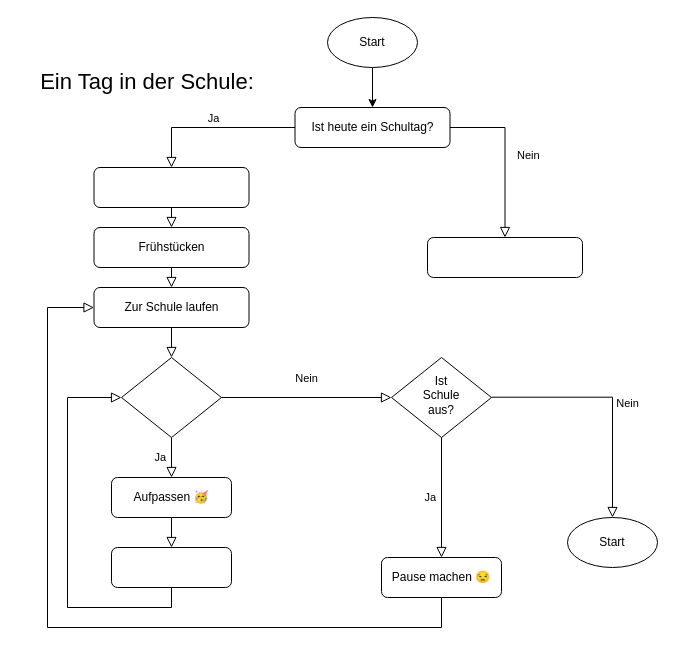
Some shapes in this 675 by 655 pixel diagram are drawn without their labels. Here are the shapes that lost their labels. From the top down, the centre of each, then its label:
At [171,187]: "Anziehen".
At [504,257]: "Ende".
At [171,397]: "Ist Unterricht?".
At [171,567]: "Mitschreiben 😊".
